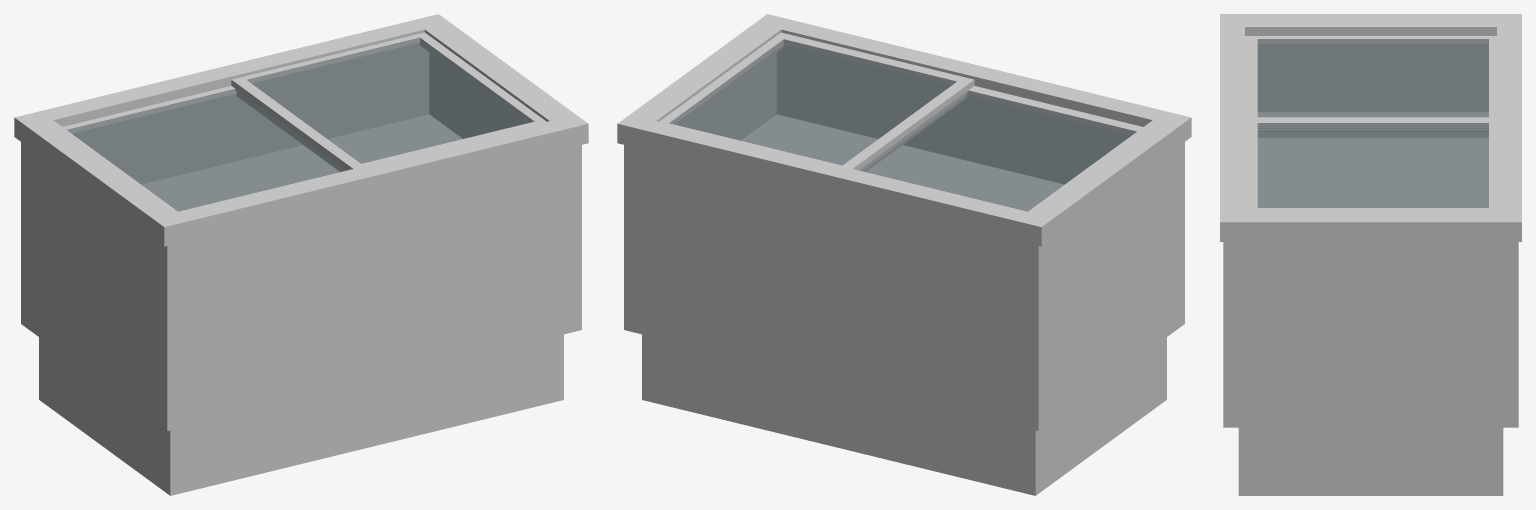
Rendered from freezer.glb.
The picture shows the model from 3 angles, left to right: view 1: azimuth 30°, elevation 25°; view 2: azimuth 150°, elevation 25°; view 3: azimuth 270°, elevation 25°; orthographic projection.
Visible parts, largest first — view 1: freezer_LOD0; view 2: freezer_LOD0; view 3: freezer_LOD0.
Boxes of the visible parts, x1,y1,x2,y2 form: freezer_LOD0: (14, 14, 588, 495); freezer_LOD0: (617, 14, 1191, 495); freezer_LOD0: (1220, 14, 1521, 495).
Size of what is drawn, in the model's own units: 1.69 by 1.06 by 1.03.
